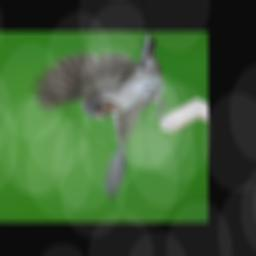Swallow: (26, 36, 178, 201)
